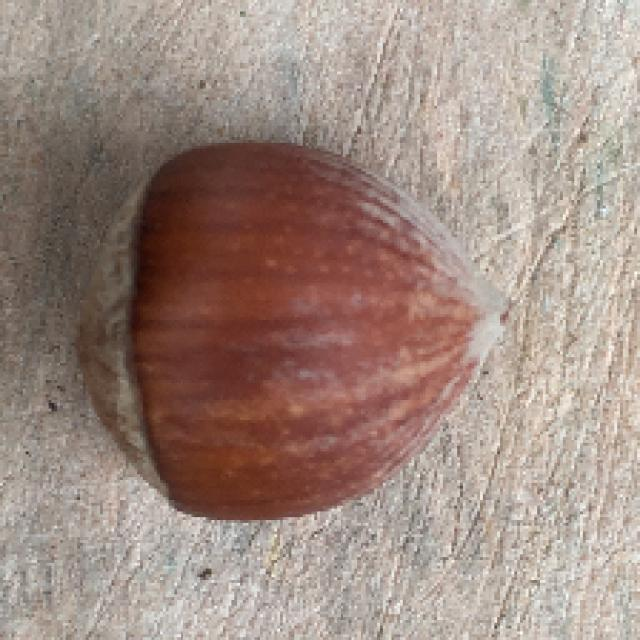QualityHazelnut: (74, 143, 517, 525)
